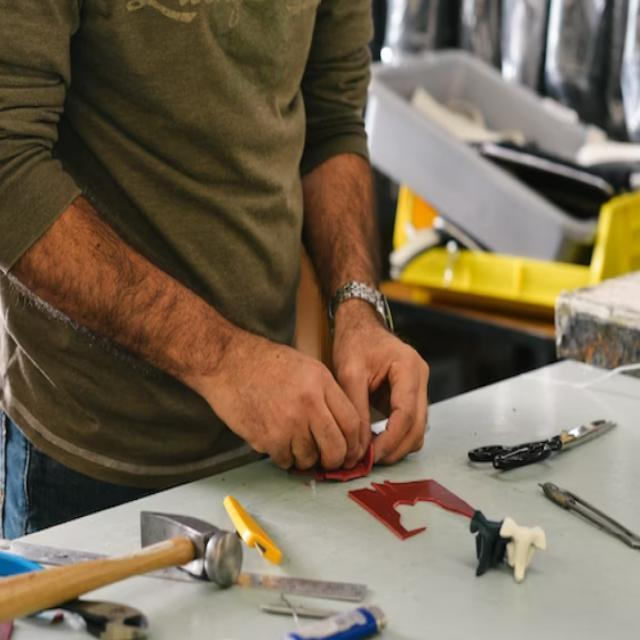Watch: (323, 274, 402, 332)
